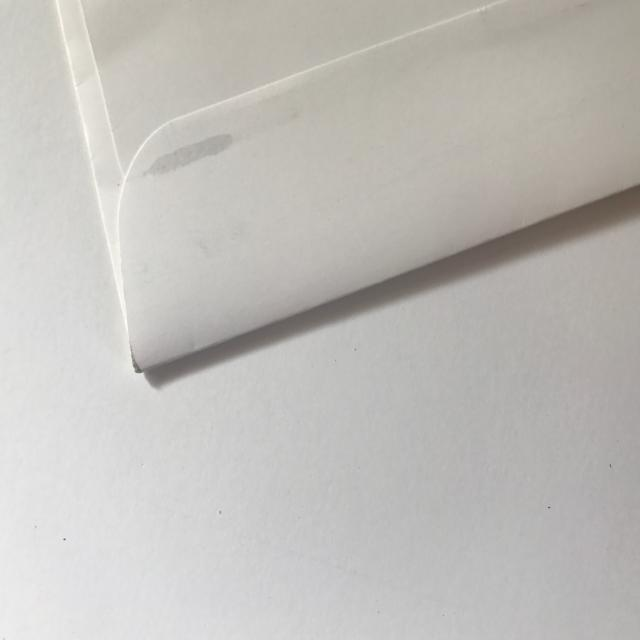paper: (37, 0, 640, 411)
